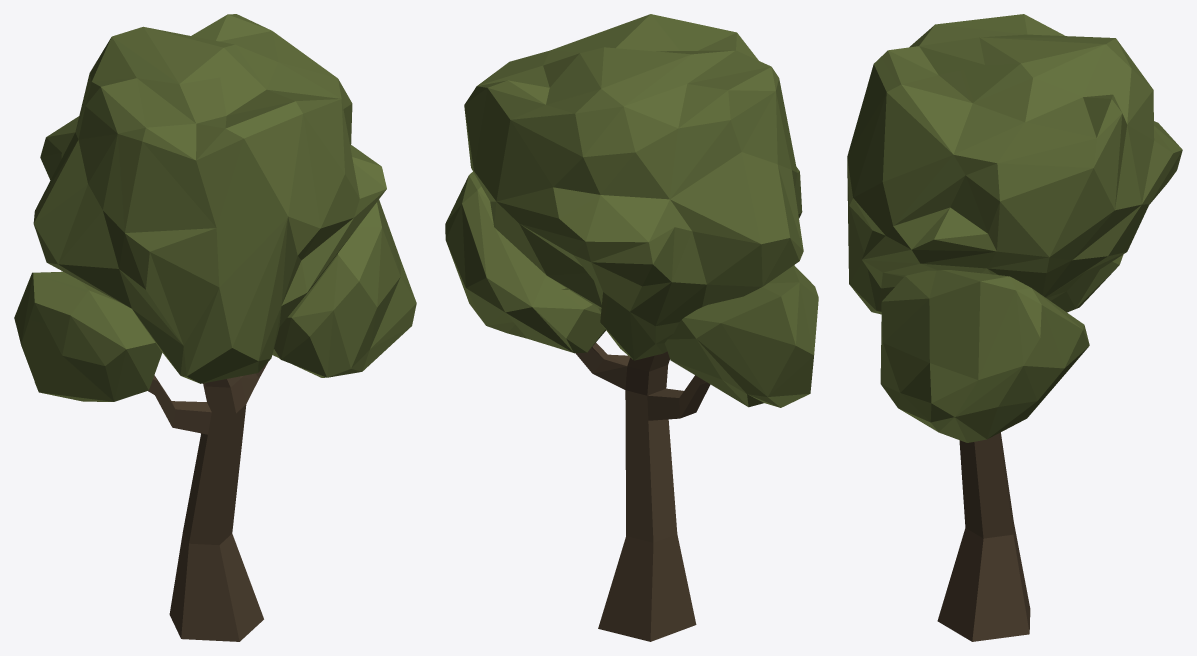
The model's file is SM_Env_Tree_09.gltf.
3 views of the same model, side by side, from view 1: azimuth 30°, elevation 25°; view 2: azimuth 150°, elevation 25°; view 3: azimuth 270°, elevation 25° (orthographic). The views are drawn at different scales.
Parts seen in each view (by area): view 1: SM_Env_Tree_09; view 2: SM_Env_Tree_09; view 3: SM_Env_Tree_09.
Boxes of the visible parts, x1,y1,x2,y2 form: SM_Env_Tree_09: [14, 14, 416, 641]; SM_Env_Tree_09: [445, 14, 818, 641]; SM_Env_Tree_09: [847, 14, 1182, 641].
Bounding box in the file's own units: 3.45 × 5.11 × 2.72.
Materials: 1 (1 with a texture image).
